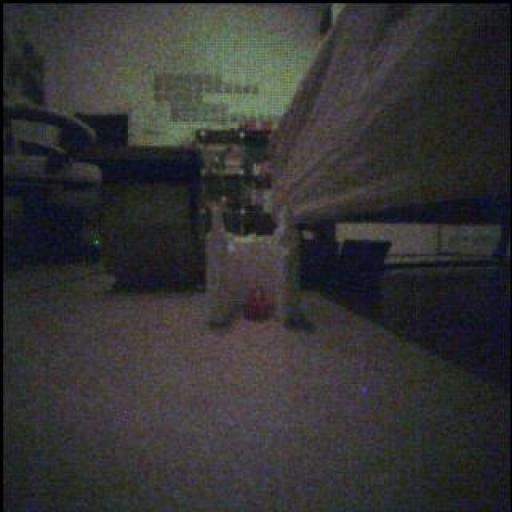basket: (244, 287, 275, 321)
